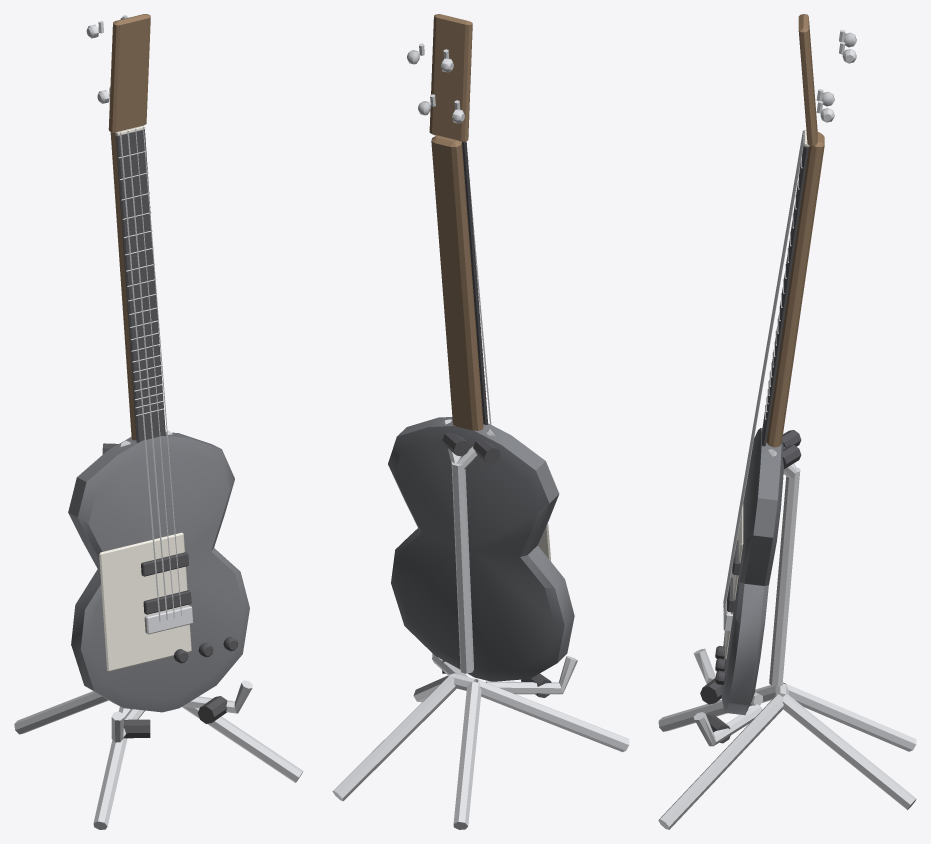
The model's file is music-recording-studio-and-instruments-bass-guitar-on--c2780ecc.glb.
3 renders of one model, left to right at view 1: azimuth 30°, elevation 25°; view 2: azimuth 150°, elevation 25°; view 3: azimuth 270°, elevation 25°, orthographic. The views are drawn at different scales.
Visible parts, largest first — view 1: bass-guitar-on-stand; view 2: bass-guitar-on-stand; view 3: bass-guitar-on-stand.
Boxes of the visible parts, left/top/right/bottom form: bass-guitar-on-stand: left=14, top=14, right=303, bottom=829; bass-guitar-on-stand: left=332, top=14, right=629, bottom=829; bass-guitar-on-stand: left=658, top=14, right=916, bottom=829.
Size of the model in its own units: 0.4203 by 1.42 by 0.4381.
